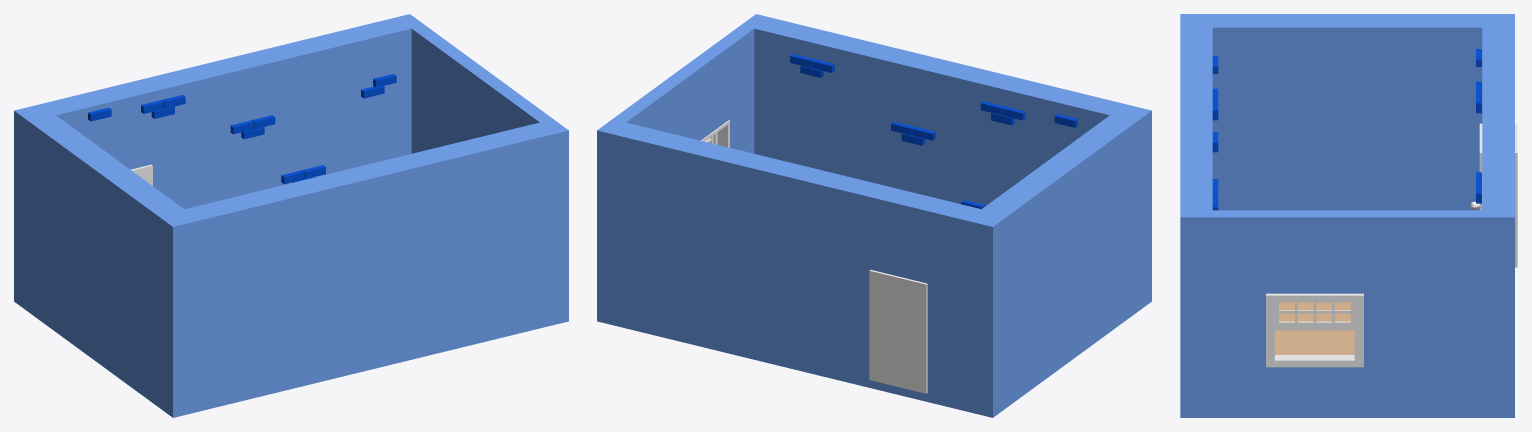
The model's file is room.fbx.
The picture shows the model from 3 angles, left to right: view 1: azimuth 30°, elevation 25°; view 2: azimuth 150°, elevation 25°; view 3: azimuth 270°, elevation 25°; orthographic projection. The views are drawn at different scales.
Parts seen in each view (by area): view 1: pCube3, wall3, pCube4, pCube28; view 2: pCube4, pCube3, wall3, pCube28, pCube20; view 3: pCube28, wall3, pCube4, pCube3, pCube17, ground, pCube19, pCube20.
Part boxes in pixels (left/top/right/bottom): pCube3: left=184, top=122, right=555, bottom=411; wall3: left=14, top=104, right=199, bottom=417; pCube4: left=41, top=17, right=411, bottom=208; pCube28: left=397, top=14, right=568, bottom=324; pCube4: left=610, top=122, right=981, bottom=411; pCube3: left=754, top=17, right=1124, bottom=206; wall3: left=966, top=104, right=1151, bottom=417; pCube28: left=597, top=14, right=768, bottom=324; pCube20: left=869, top=270, right=927, bottom=393; pCube28: left=1180, top=210, right=1514, bottom=417; wall3: left=1180, top=14, right=1514, bottom=210; pCube4: left=1482, top=27, right=1514, bottom=210; pCube3: left=1180, top=27, right=1212, bottom=210; pCube17: left=1266, top=293, right=1363, bottom=367; ground: left=1275, top=302, right=1354, bottom=354; pCube19: left=1275, top=302, right=1354, bottom=330; pCube20: left=1479, top=123, right=1517, bottom=267.
Size of the model in its own units: 44.94 by 20.53 by 31.27.
